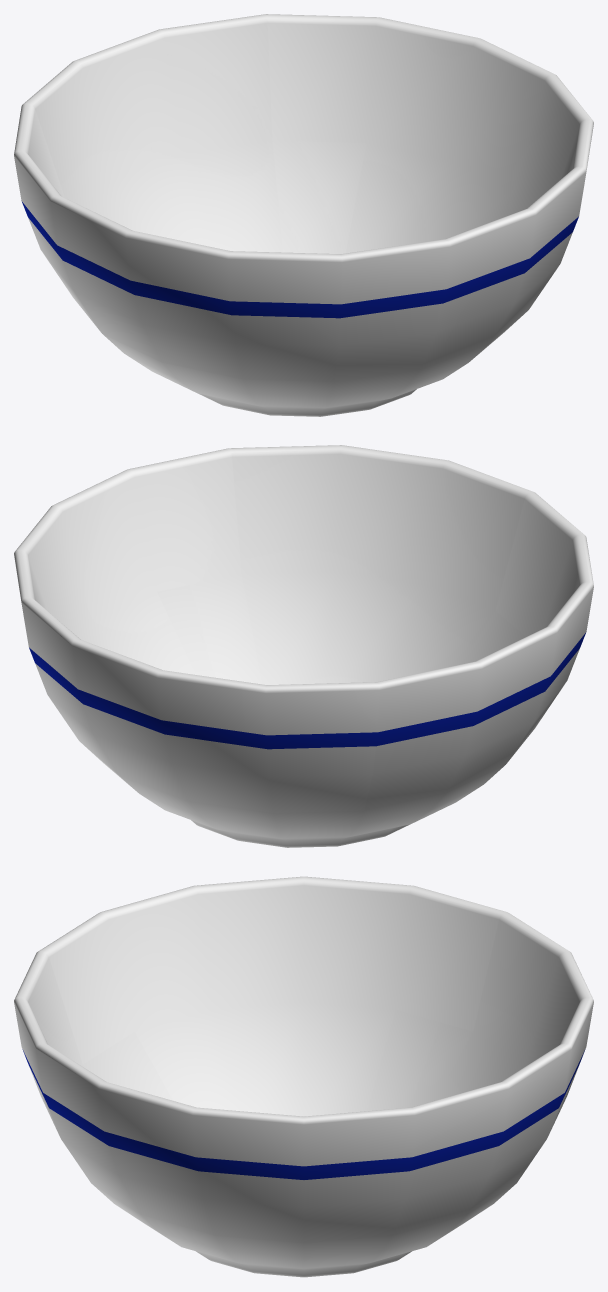
File: medium_soup_plate.obj
3 views of the same model, one above another, from view 1: azimuth 30°, elevation 25°; view 2: azimuth 150°, elevation 25°; view 3: azimuth 270°, elevation 25° (orthographic).
Parts seen in each view (by area): view 1: medium_soup_plate; view 2: medium_soup_plate; view 3: medium_soup_plate.
Boxes of the visible parts, box(x1,y1,x2,y2) form: medium_soup_plate: box(14, 14, 593, 416); medium_soup_plate: box(14, 445, 593, 847); medium_soup_plate: box(14, 876, 593, 1277).
Bounding box in the file's own units: 0.1639 × 0.0707 × 0.1639.
